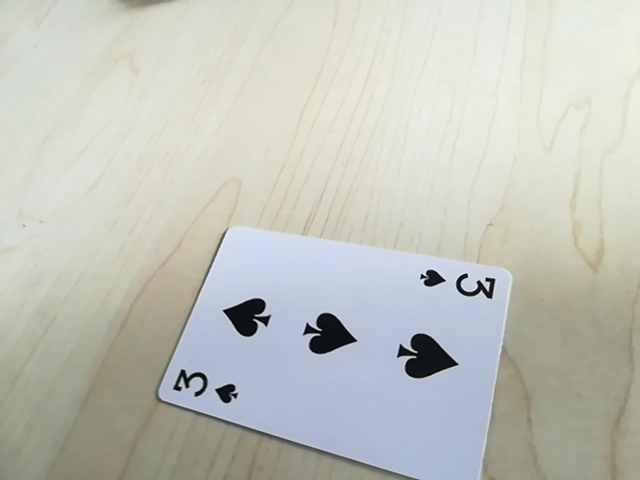ht 3: (166, 363, 247, 405), (420, 263, 501, 305)
